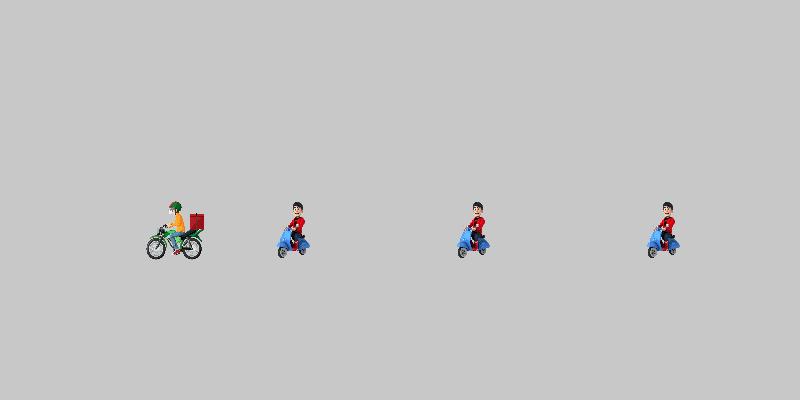helmet: (145, 200, 205, 260)
no_helmet: (265, 200, 325, 260), (445, 200, 505, 260), (635, 200, 695, 260)
